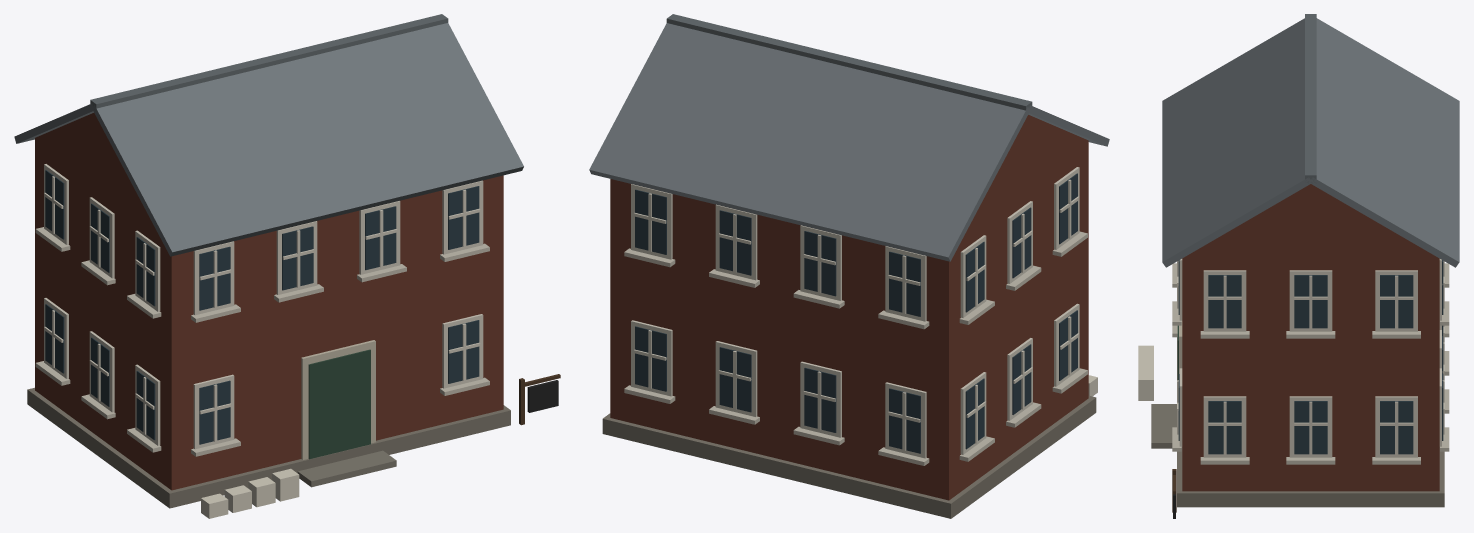
Rendered from procedural_printer@5.glb.
3 renders of one model, left to right at view 1: azimuth 30°, elevation 25°; view 2: azimuth 150°, elevation 25°; view 3: azimuth 270°, elevation 25°, orthographic. The views are drawn at different scales.
Parts seen in each view (by area): view 1: part_0; view 2: part_0; view 3: part_0.
Part boxes in pixels (x1=…): part_0: x1=14, y1=14, x2=560, y2=518; part_0: x1=589, y1=14, x2=1109, y2=518; part_0: x1=1138, y1=14, x2=1459, y2=518.
Bounding box in the file's own units: 8.31 × 7.17 × 6.24.
